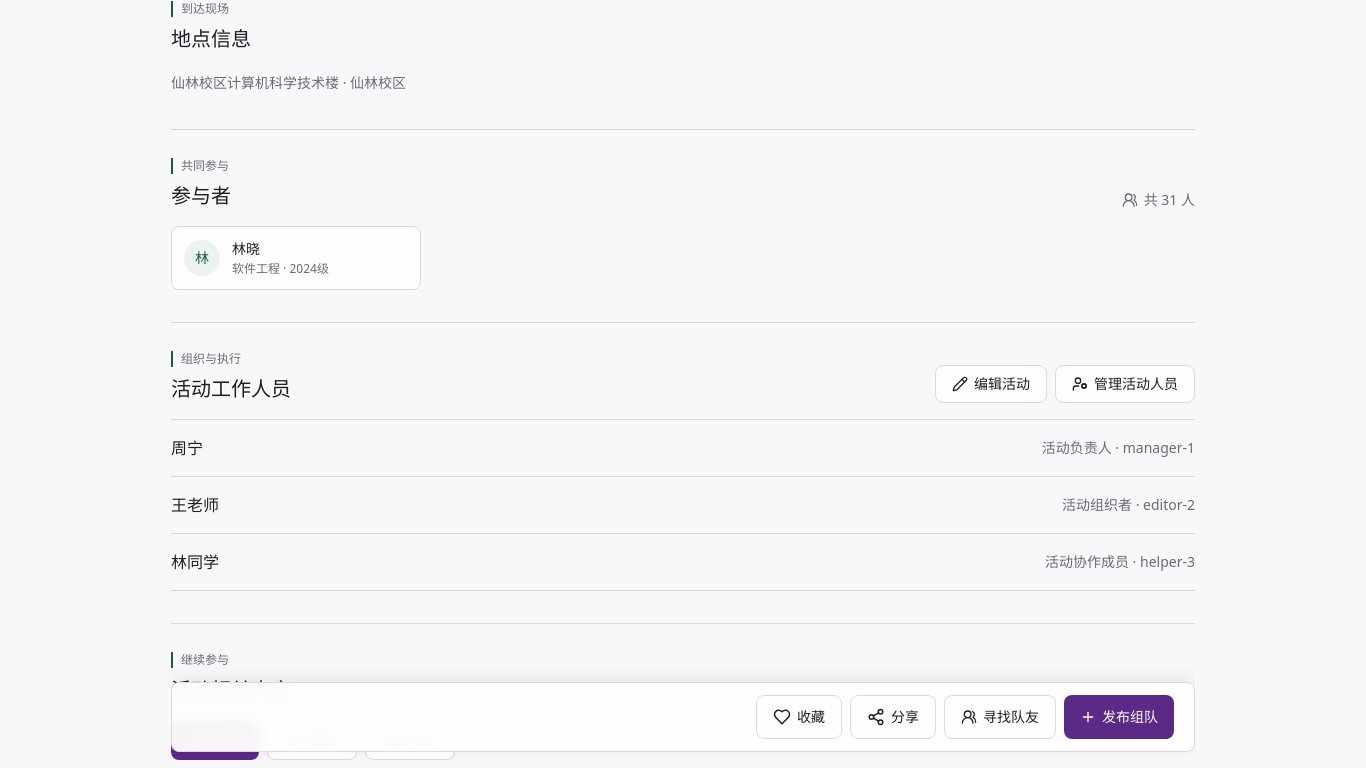
Test: TopicDetail activity experience › shows every active activity worker and gives managers an in-page authorization entry
(page scrolled)
Expected: the link "周宁" is shown, [171, 436, 203, 460]
Expected: the link "王老师" is shown, [171, 493, 219, 517]
Click the button "管理活动人员".
click(1125, 384)  # box [1055, 365, 1195, 403]
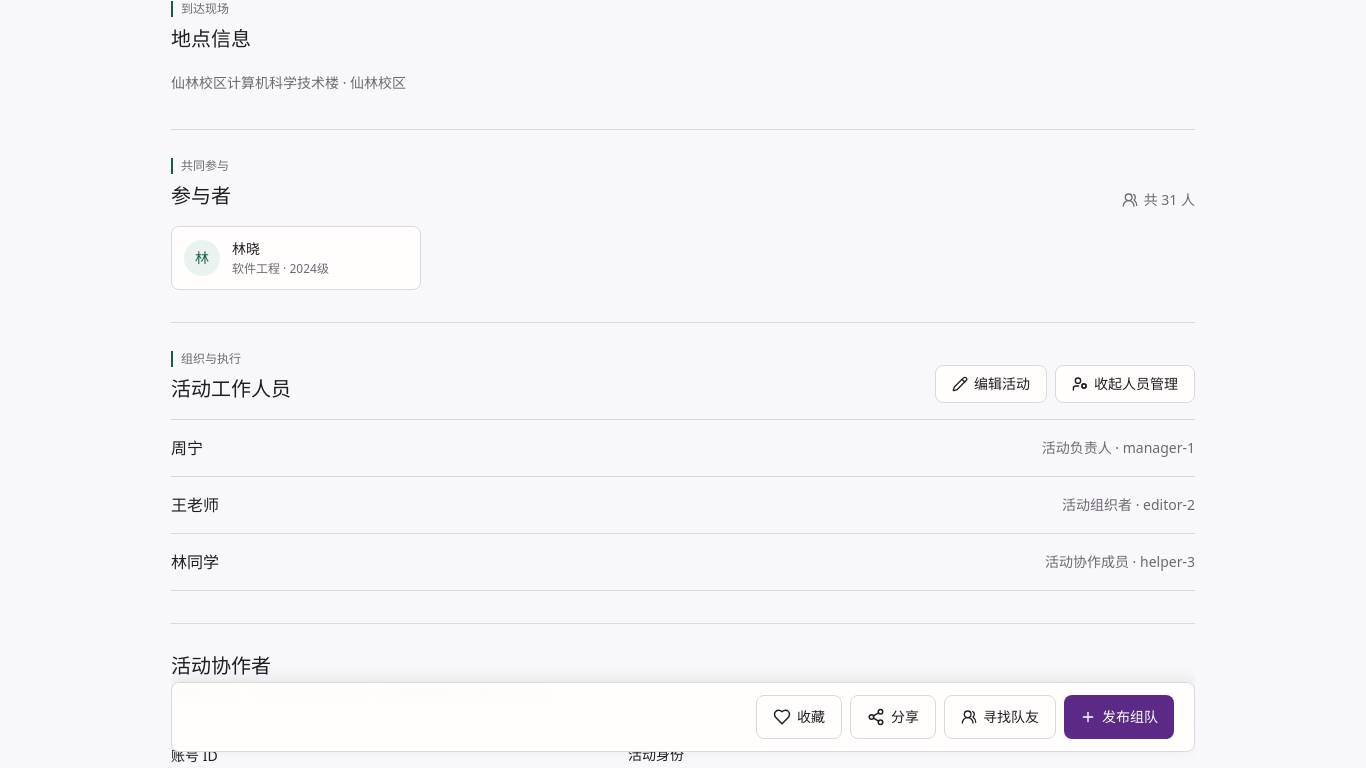
Result: the heading "活动协作者" is shown at [171, 655, 271, 677]
